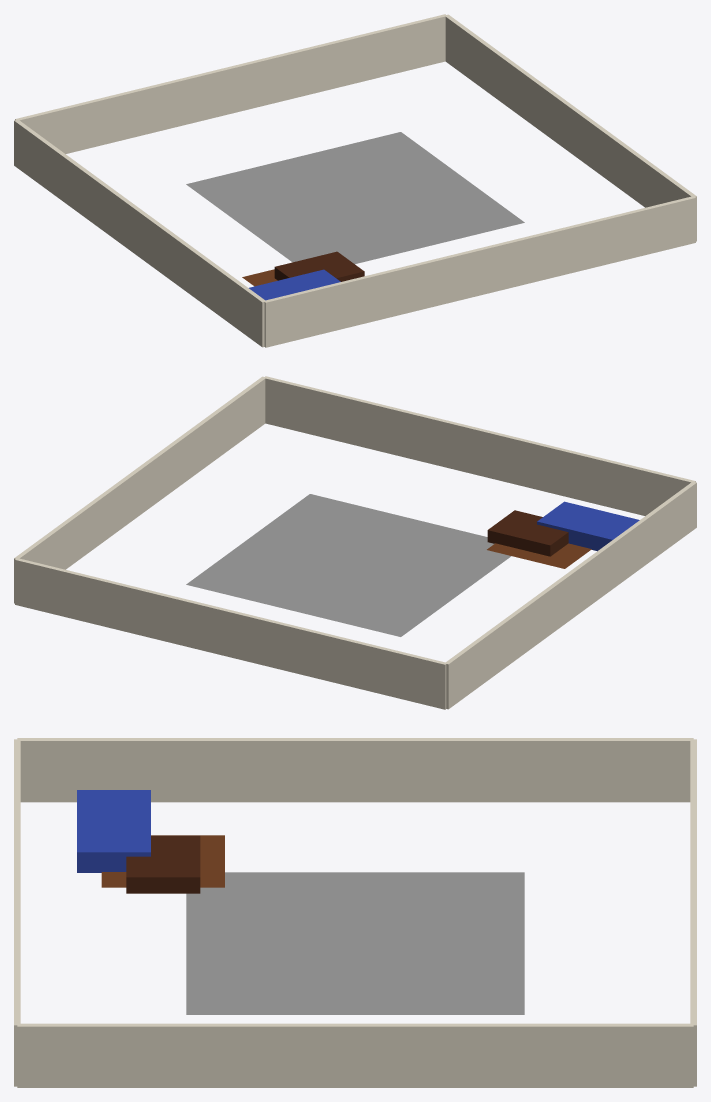
Rendered from boq_professional_cb404607-44ed-45b6-aa61-89e36b347b7e.obj.
3 renders of one model, top to bottom at view 1: azimuth 30°, elevation 25°; view 2: azimuth 150°, elevation 25°; view 3: azimuth 270°, elevation 25°, orthographic. The views are drawn at different scales.
Parts seen in each view (by area): view 1: Foundation, ExteriorWall_South, ExteriorWall_North, ExteriorWall_West, ExteriorWall_East, CoffeeTable_Living_Room_1, Sofa_Living_Room_1; view 2: Foundation, ExteriorWall_North, ExteriorWall_South, ExteriorWall_West, ExteriorWall_East, Sofa_Living_Room_1, CoffeeTable_Living_Room_1, Floor_Living_Room_1; view 3: Foundation, ExteriorWall_East, ExteriorWall_West, Sofa_Living_Room_1, CoffeeTable_Living_Room_1, ExteriorWall_North, ExteriorWall_South, Floor_Living_Room_1.
Boxes of the visible parts, bbox=[...] form: Foundation: bbox=[186, 132, 524, 263]; ExteriorWall_South: bbox=[264, 196, 695, 347]; ExteriorWall_North: bbox=[15, 14, 446, 153]; ExteriorWall_West: bbox=[14, 120, 265, 347]; ExteriorWall_East: bbox=[445, 14, 696, 241]; CoffeeTable_Living_Room_1: bbox=[274, 251, 364, 281]; Sofa_Living_Room_1: bbox=[249, 269, 340, 300]; Foundation: bbox=[186, 494, 511, 636]; ExteriorWall_North: bbox=[15, 558, 446, 709]; ExteriorWall_South: bbox=[264, 376, 695, 515]; ExteriorWall_West: bbox=[445, 481, 696, 709]; ExteriorWall_East: bbox=[14, 376, 265, 603]; Sofa_Living_Room_1: bbox=[537, 501, 639, 551]; CoffeeTable_Living_Room_1: bbox=[487, 510, 568, 556]; Floor_Living_Room_1: bbox=[487, 543, 591, 568]; Foundation: bbox=[186, 872, 524, 1014]; ExteriorWall_East: bbox=[17, 1023, 693, 1087]; ExteriorWall_West: bbox=[17, 738, 693, 802]; Sofa_Living_Room_1: bbox=[77, 790, 150, 872]; CoffeeTable_Living_Room_1: bbox=[126, 835, 200, 893]; ExteriorWall_North: bbox=[690, 739, 696, 1086]; ExteriorWall_South: bbox=[14, 739, 20, 1086]; Floor_Living_Room_1: bbox=[101, 835, 224, 887].
Size of the model in its own units: 30.3 by 3 by 30.3.
